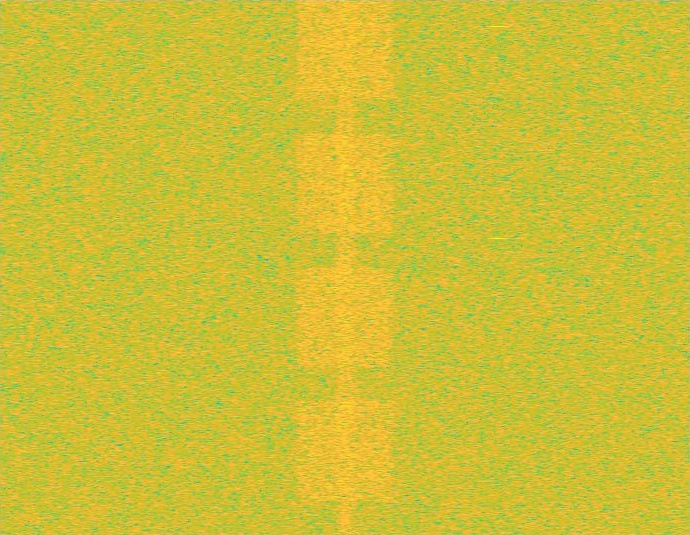5G: (294, 0, 397, 534)
DSSS: (334, 0, 357, 534)
Radar: (492, 0, 505, 534)
